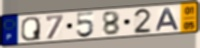2: (133, 7, 153, 36)
5: (75, 10, 95, 39)
7: (45, 13, 65, 41)
8: (101, 10, 121, 36)
A: (155, 7, 181, 32)
Q: (20, 16, 42, 42)
